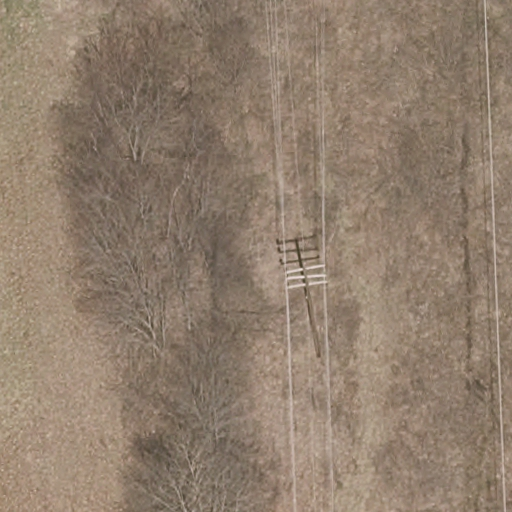DT: (284, 263, 328, 356)
